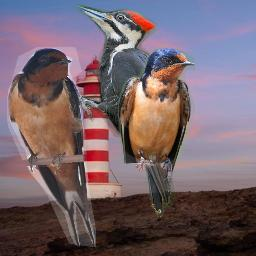Swallow: (7, 47, 96, 247), (118, 47, 195, 180)
Woodpecker: (64, 4, 181, 218)
